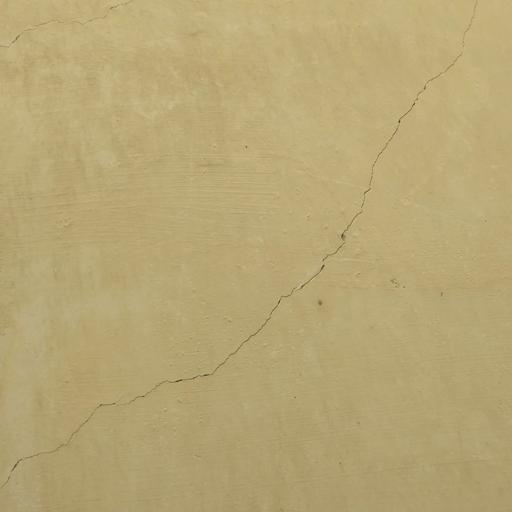minor_crack: (0, 6, 512, 512)
